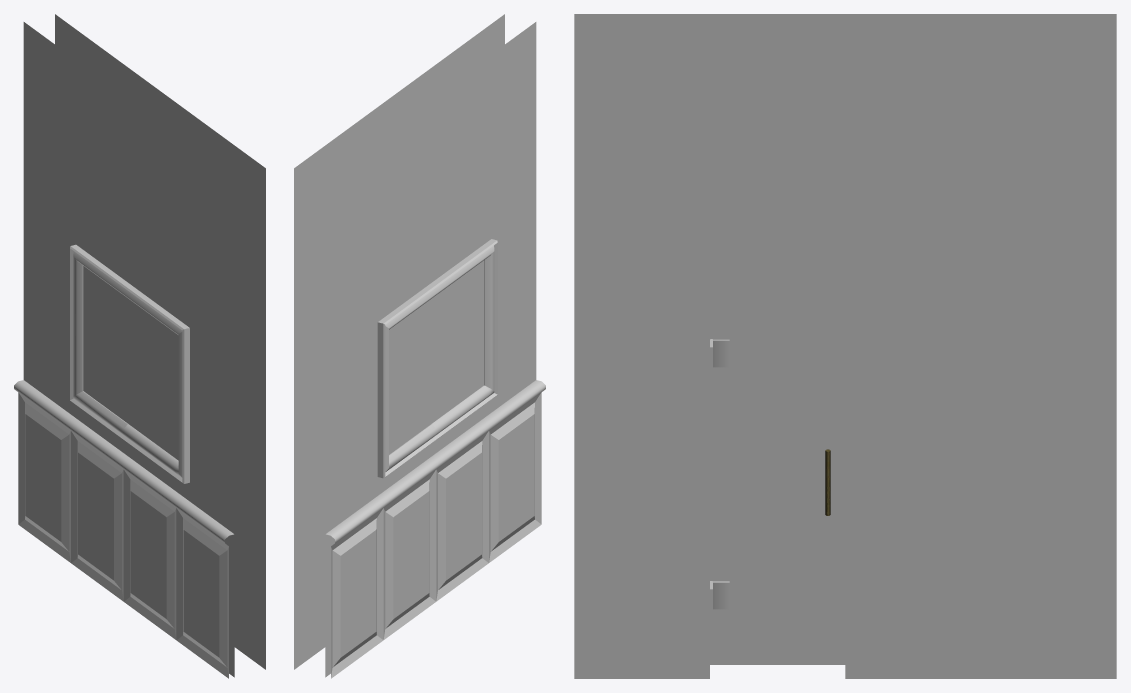
Rendered from wood_panneling_secret_door_01_painting.DAE.
3 views of the same model, side by side, from view 1: azimuth 30°, elevation 25°; view 2: azimuth 150°, elevation 25°; view 3: azimuth 270°, elevation 25° (orthographic). The views are drawn at different scales.
Visible parts, largest first — view 1: wallpaper, wood_wall, backside_wall, wood_door, painting_frame_wall, painting_door, painting_wall, painting_frame_door, wallpaper_door; view 2: wallpaper, wood_wall, backside_wall, wood_door, painting_door, painting_frame_wall, painting_wall, painting_frame_door, wallpaper_door; view 3: backside_wall, backside_door, wallpaper, hinge_door.
Boxes of the visible parts, x1,y1,x2,y2 form: wallpaper: (23, 22, 234, 677); wood_wall: (14, 380, 233, 678); backside_wall: (55, 14, 265, 669); wood_door: (119, 457, 181, 639); painting_frame_wall: (70, 244, 189, 483); painting_door: (128, 299, 178, 460); painting_wall: (83, 266, 128, 423); painting_frame_door: (122, 424, 178, 476); wallpaper_door: (129, 444, 181, 495); wallpaper: (325, 22, 536, 677); wood_wall: (326, 380, 545, 678); backside_wall: (294, 14, 504, 669); wood_door: (431, 418, 493, 601); painting_door: (431, 260, 484, 423); painting_frame_wall: (377, 239, 497, 478); painting_wall: (389, 299, 431, 454); painting_frame_door: (432, 385, 490, 438); wallpaper_door: (430, 405, 483, 456); backside_wall: (574, 33, 1116, 678); backside_door: (710, 289, 845, 664); wallpaper: (574, 14, 1116, 33); hinge_door: (713, 339, 729, 609).
Bounding box in the file's own units: 0.4487 × 5.25 × 4.
